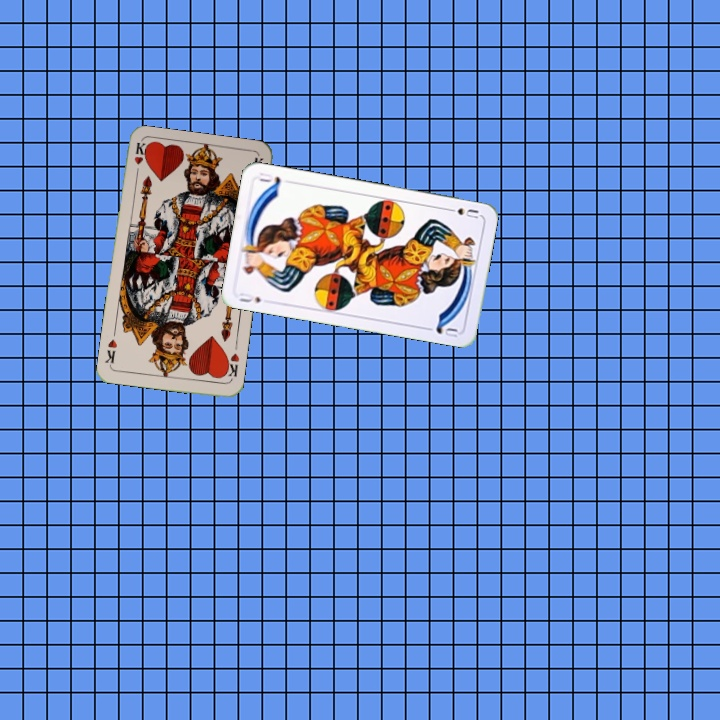HK: (220, 349, 242, 383), (130, 139, 148, 180)
SU: (442, 203, 481, 221), (235, 288, 263, 305)
